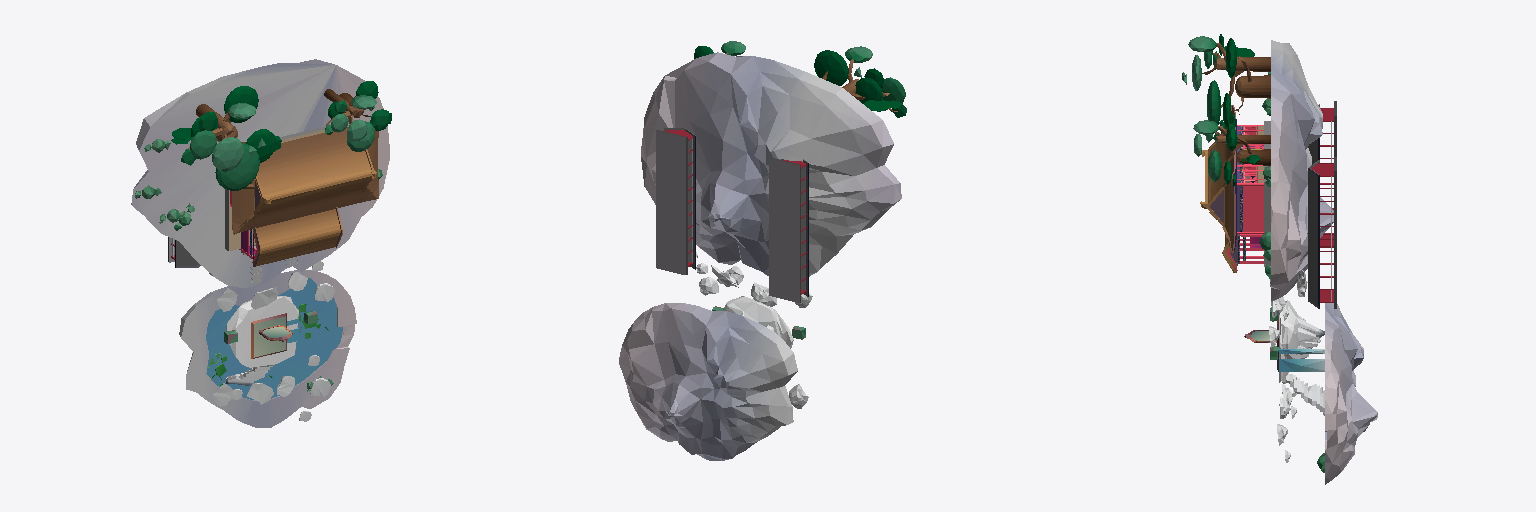
3 renders of one model, left to right at view 1: azimuth 30°, elevation 25°; view 2: azimuth 150°, elevation 25°; view 3: azimuth 270°, elevation 25°, orthographic.
Bounding box in the file's own units: 566 × 826 × 373.
51 materials, 12 textured.